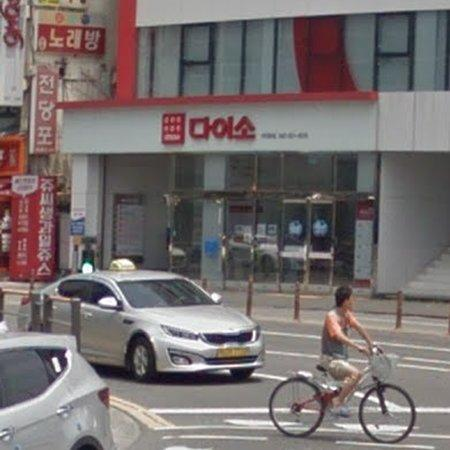bicycles: (359, 346, 416, 444), (270, 367, 341, 437)
